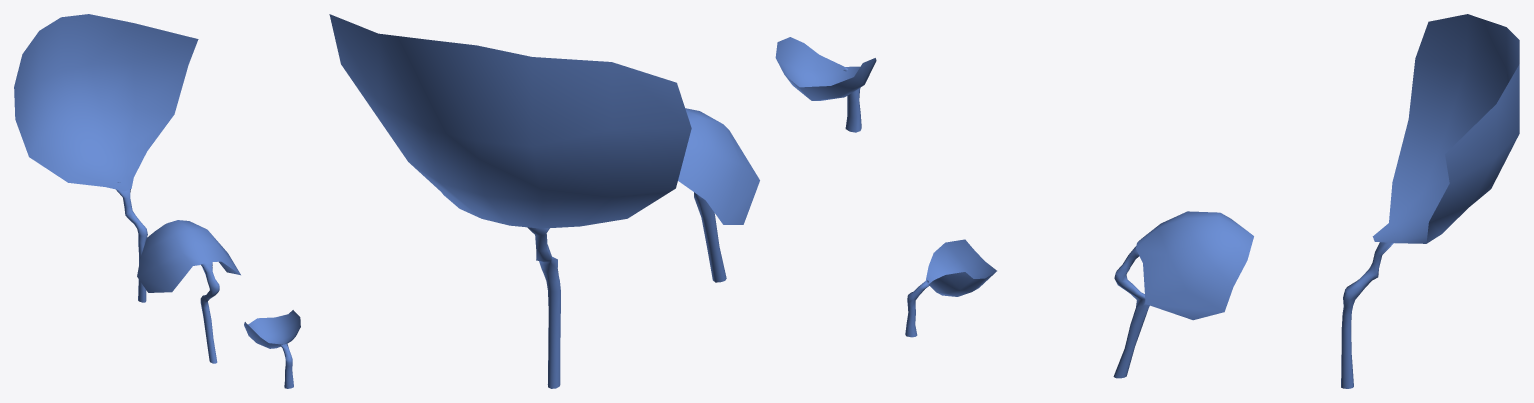
The model's file is tranPlantGrid.fbx.
The picture shows the model from 3 angles, left to right: view 1: azimuth 30°, elevation 25°; view 2: azimuth 150°, elevation 25°; view 3: azimuth 270°, elevation 25°; orthographic projection. The views are drawn at different scales.
Visible parts, largest first — view 1: tranPlantGridBig, tranPlantGridMed, tranPlantGridSmall; view 2: tranPlantGridBig, tranPlantGridMed, tranPlantGridSmall; view 3: tranPlantGridBig, tranPlantGridMed, tranPlantGridSmall.
Part boxes in pixels (box(x1,y1,x2,y2)): tranPlantGridBig: box(14, 14, 198, 302); tranPlantGridMed: box(137, 220, 240, 363); tranPlantGridSmall: box(244, 310, 300, 388); tranPlantGridBig: box(329, 14, 691, 388); tranPlantGridMed: box(678, 108, 759, 282); tranPlantGridSmall: box(775, 37, 876, 132); tranPlantGridBig: box(1341, 14, 1519, 388); tranPlantGridMed: box(1113, 211, 1253, 378); tranPlantGridSmall: box(905, 239, 996, 337).
Bounding box in the file's own units: 214 × 256 × 426.
